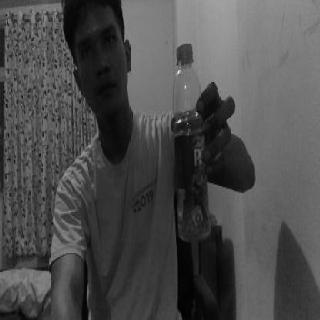plastic_bottles: (172, 50, 212, 244)
